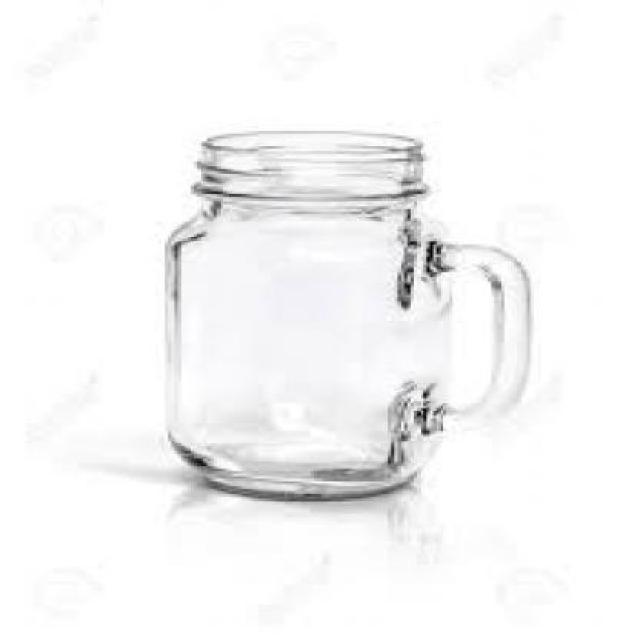kaca: (162, 131, 528, 498)
